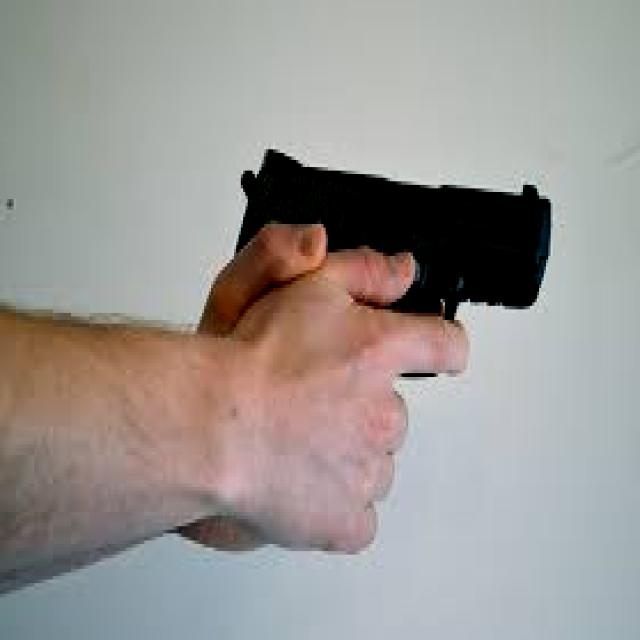pistol: (220, 103, 567, 384)
